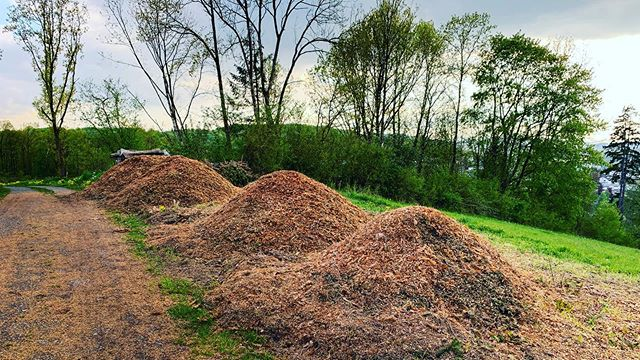sky: (37, 1, 624, 98)
vegetation: (8, 1, 597, 221)
